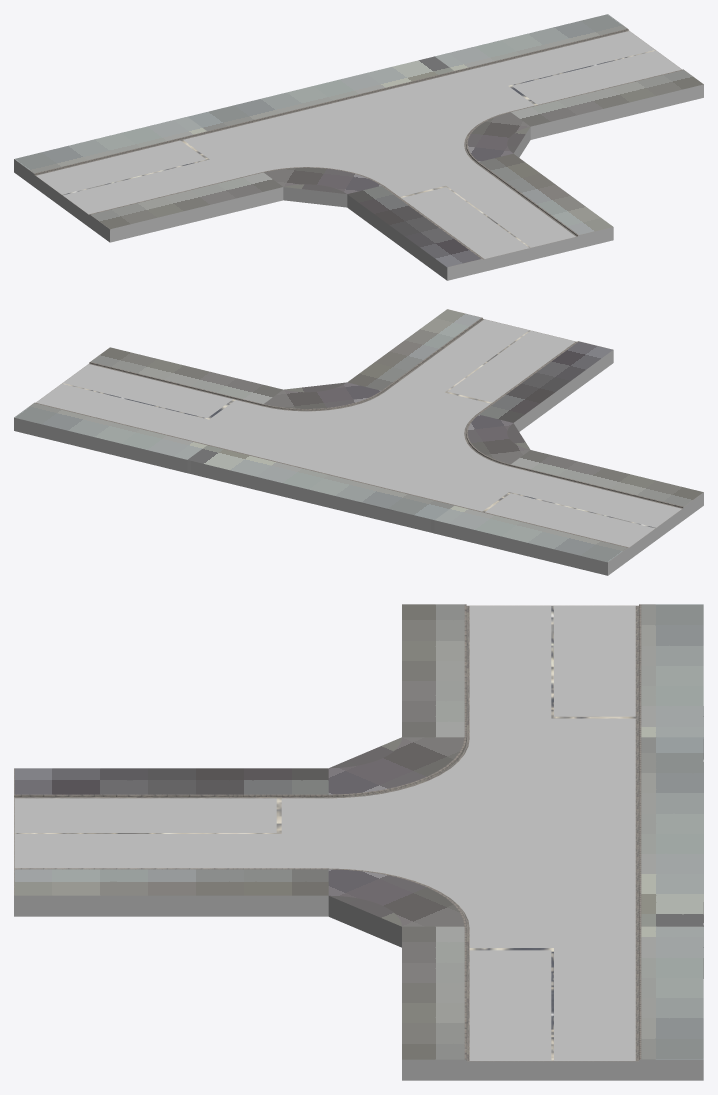
The model's file is Road_01a_t.fbx.
3 views of the same model, one above another, from view 1: azimuth 30°, elevation 25°; view 2: azimuth 150°, elevation 25°; view 3: azimuth 270°, elevation 25° (orthographic). The views are drawn at different scales.
Parts seen in each view (by area): view 1: Road_01a_t; view 2: Road_01a_t; view 3: Road_01a_t.
Part boxes in pixels (<box>): Road_01a_t: <box>14,14,703,280</box>; Road_01a_t: <box>14,309,703,575</box>; Road_01a_t: <box>14,604,703,1080</box>.
Bounding box in the file's own units: 100 × 2.16 × 64.02.
